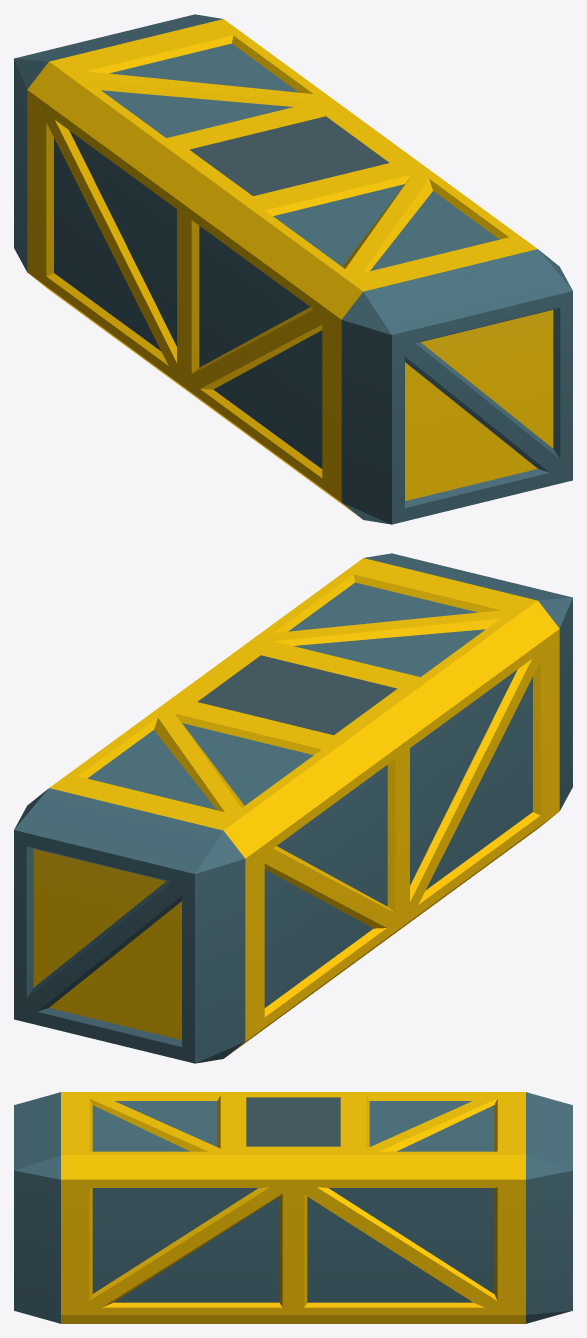
The model's file is Cargo_drone_002_cantainer_001.glb.
3 renders of one model, top to bottom at view 1: azimuth 30°, elevation 25°; view 2: azimuth 150°, elevation 25°; view 3: azimuth 270°, elevation 25°, orthographic. The views are drawn at different scales.
Visible parts, largest first — view 1: Cargo_drone_002_cantainer_001; view 2: Cargo_drone_002_cantainer_001; view 3: Cargo_drone_002_cantainer_001.
Boxes of the visible parts, box(x1,y1,x2,y2) form: Cargo_drone_002_cantainer_001: box(14, 14, 572, 524); Cargo_drone_002_cantainer_001: box(14, 553, 572, 1063); Cargo_drone_002_cantainer_001: box(14, 1092, 572, 1323).
Size of the model in its own units: 0.8496 by 0.8496 by 2.55.
1 material, 1 textured.
